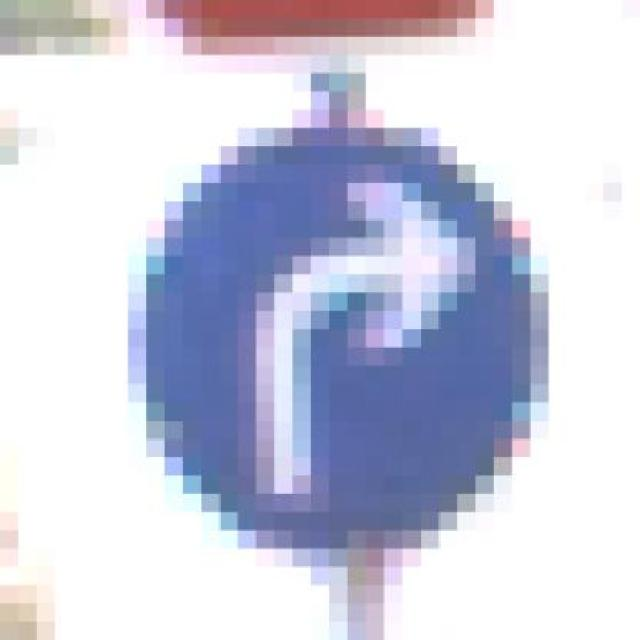Turn right ahead: (92, 92, 586, 586)
